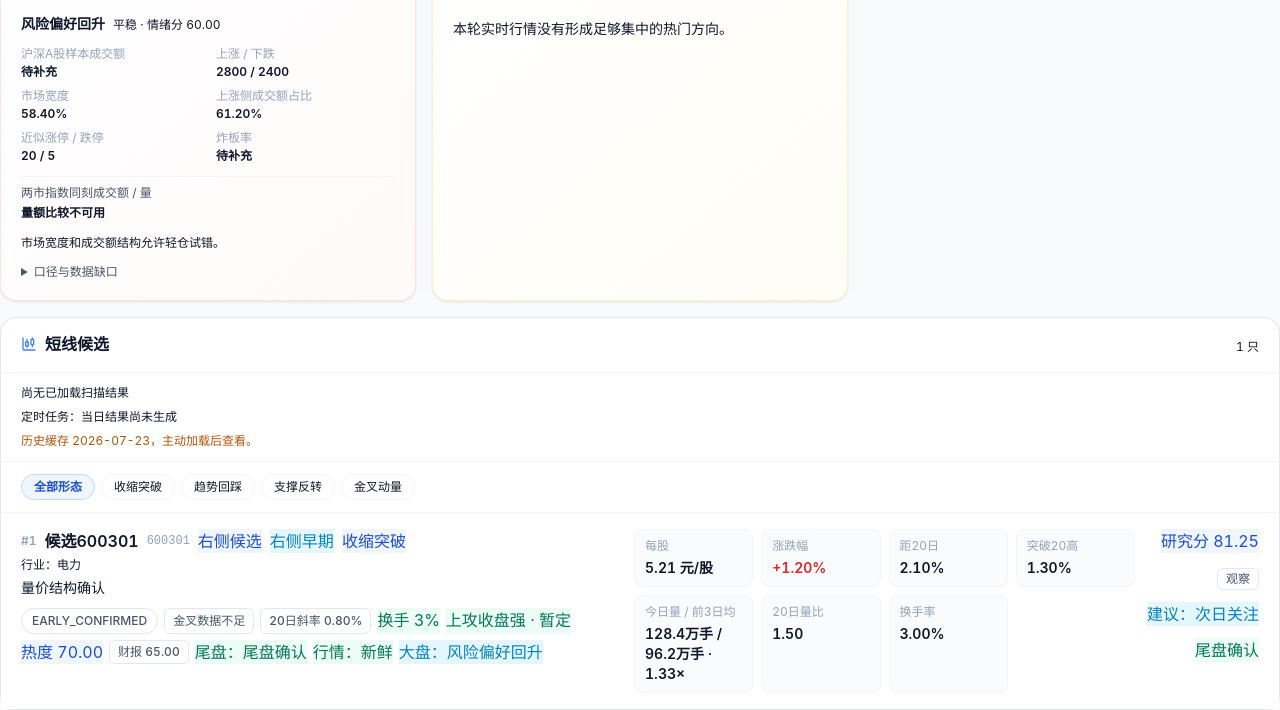
Test case: ShortTermPage manual scan flow › separates research components and observation levels from the collapsed legacy score
(page scrolled)
What coordinates should you click on to do the following:
click the button that starts with "候选600301"
I would click on:
 (640, 697)
Its box is x1=1 y1=513 x2=1279 y2=709.
(page scrolled)
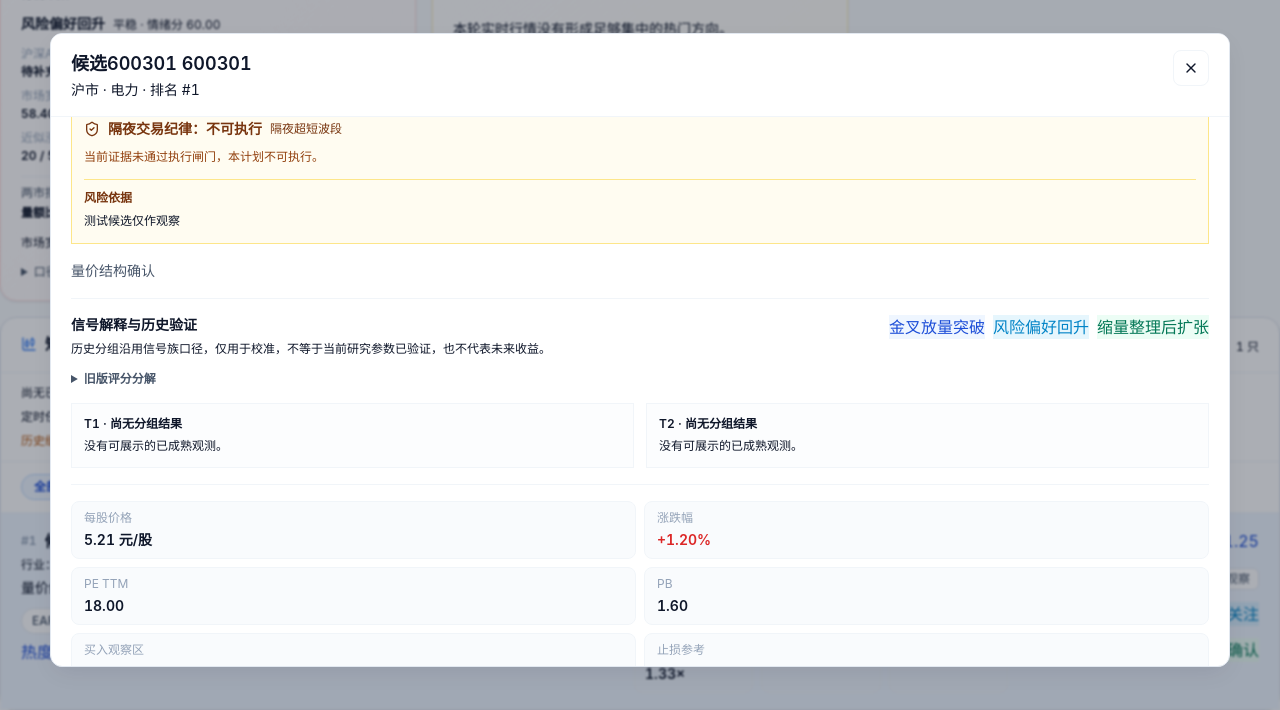
Check: the element showing "旧版评分分解" is shown, box x1=84 y1=371 x2=156 y2=386
Check: the element named "信号解释与历史验证" shows "T1", box x1=84 y1=416 x2=182 y2=431
Check: the element named "信号解释与历史验证" shows "T2", box x1=659 y1=416 x2=757 y2=431
